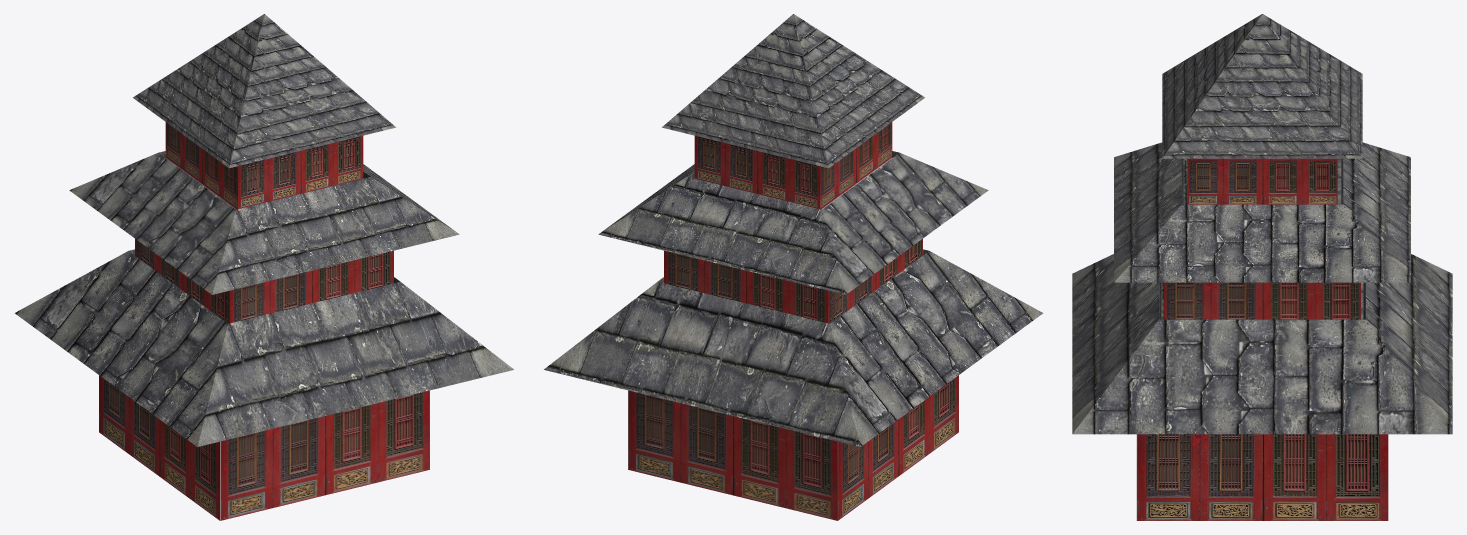
Rendered from Tower.fbx.
3 views of the same model, side by side, from view 1: azimuth 30°, elevation 25°; view 2: azimuth 150°, elevation 25°; view 3: azimuth 270°, elevation 25° (orthographic). The views are drawn at different scales.
Parts seen in each view (by area): view 1: third roof001, second roof001, Old Zhongshu Province, roof001, room001, second room001; view 2: third roof001, second roof001, Old Zhongshu Province, roof001, room001, second room001; view 3: third roof001, second roof001, roof001, Old Zhongshu Province, second room001, room001.
Part boxes in pixels (x1,y1,x2,y2): third roof001: [14, 249, 513, 446]; second roof001: [69, 151, 459, 294]; Old Zhongshu Province: [99, 375, 429, 520]; roof001: [133, 14, 395, 168]; room001: [165, 122, 363, 209]; second room001: [135, 239, 393, 323]; third roof001: [544, 249, 1043, 446]; second roof001: [598, 151, 988, 294]; Old Zhongshu Province: [628, 375, 958, 520]; roof001: [662, 14, 924, 168]; room001: [694, 122, 892, 209]; second room001: [664, 239, 922, 323]; third roof001: [1072, 254, 1452, 434]; second roof001: [1114, 142, 1410, 282]; roof001: [1162, 14, 1362, 158]; Old Zhongshu Province: [1136, 434, 1388, 520]; second room001: [1164, 282, 1360, 319]; room001: [1187, 158, 1337, 204].
Bounding box in the file's own units: 39.43 × 51.9 × 39.43.
